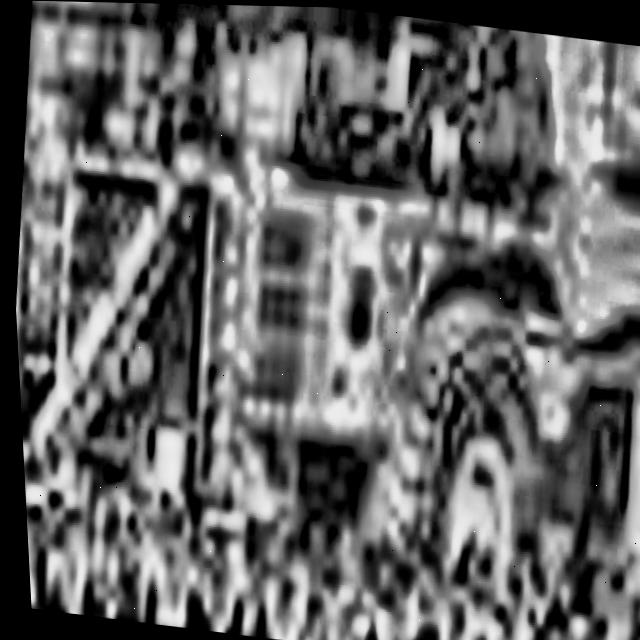dump_truck: (0, 0, 640, 599)
